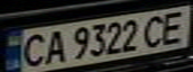2: (118, 16, 145, 53), (106, 18, 127, 56)
3: (87, 20, 109, 57)
9: (66, 24, 90, 61)
A: (39, 27, 69, 65)
C: (15, 30, 48, 69), (139, 11, 172, 48)
E: (154, 8, 193, 46)
